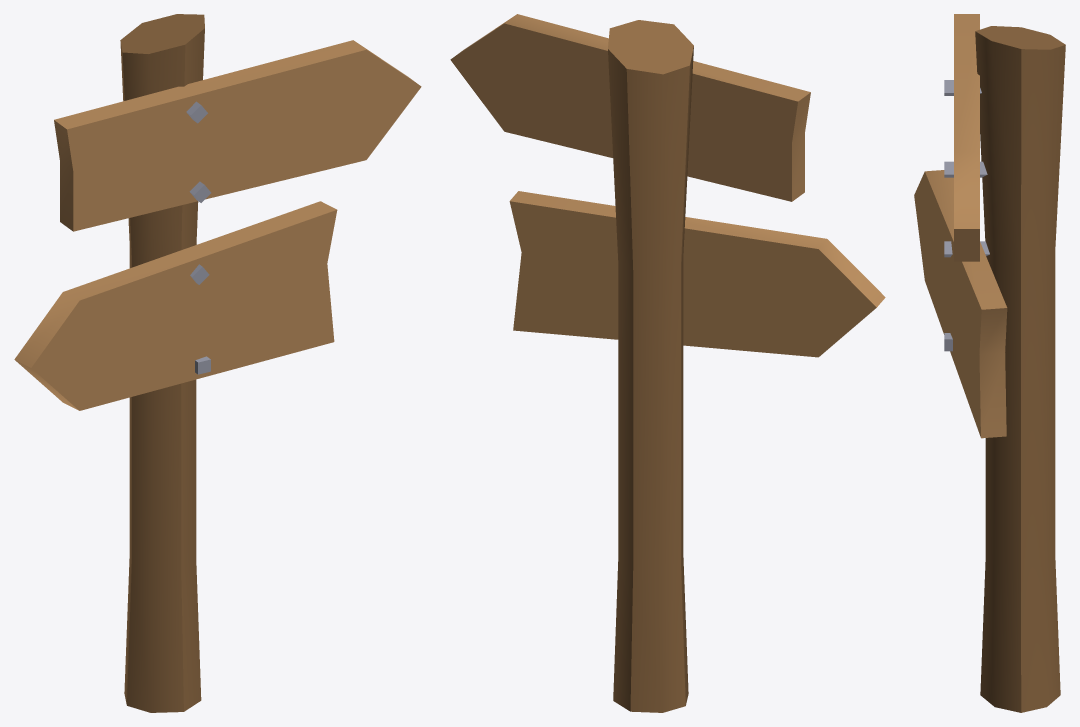
The picture shows the model from 3 angles, left to right: view 1: azimuth 30°, elevation 25°; view 2: azimuth 150°, elevation 25°; view 3: azimuth 270°, elevation 25°; orthographic projection.
Parts seen in each view (by area): view 1: default6_Material_0; view 2: default6_Material_0; view 3: default6_Material_0.
Part boxes in pixels (x1,y1,x2,y2): default6_Material_0: (14, 14, 421, 712); default6_Material_0: (450, 14, 885, 712); default6_Material_0: (914, 14, 1065, 712).
Bounding box in the file's own units: 0.0367 × 0.057 × 0.0117.
1 material, 1 textured.
